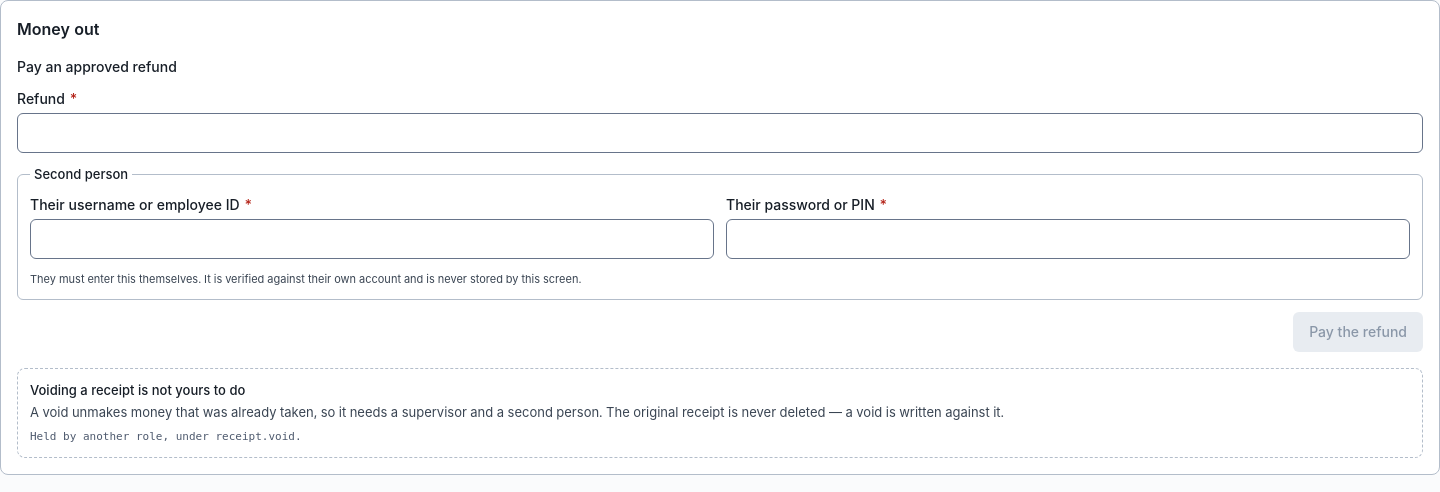
Test: money leaving the drawer › requires a second person even from somebody who holds the key
Type "0192f0e2-0000-7000-8000-0000000000d1" into the field with test id "refund-id" at {"x": 720, "y": 133}, box [17, 113, 1423, 153]
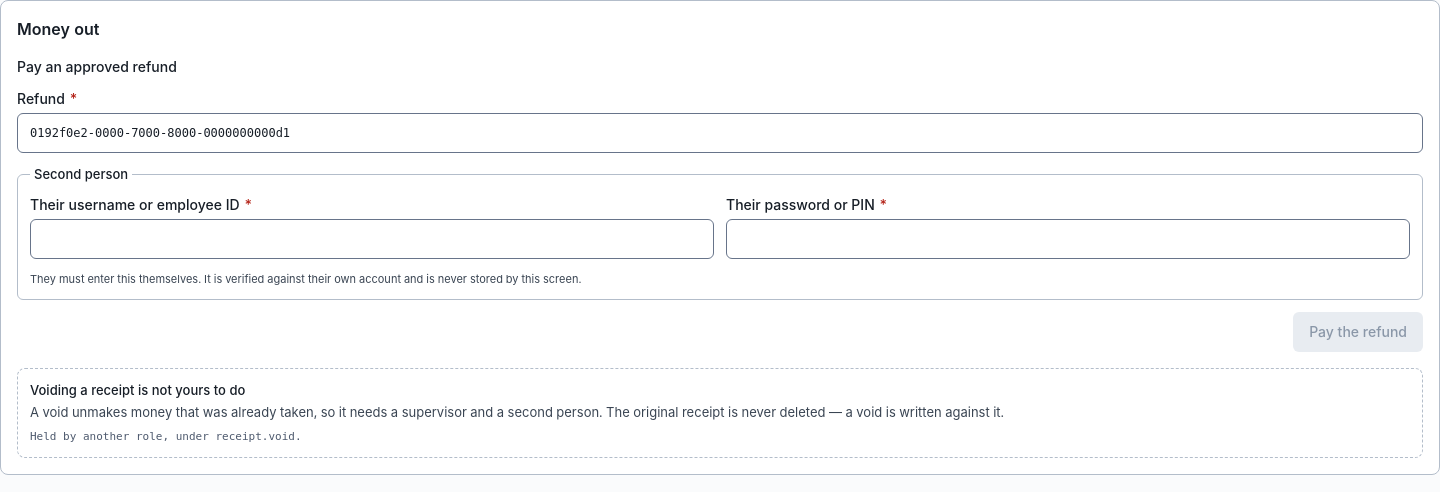
Check: the button with test id "refund-confirm" is disabled, box [1293, 312, 1423, 352]
Type "head.cashier" into the field with test id "refund-cosigner" at {"x": 372, "y": 239}, box [30, 219, 714, 259]
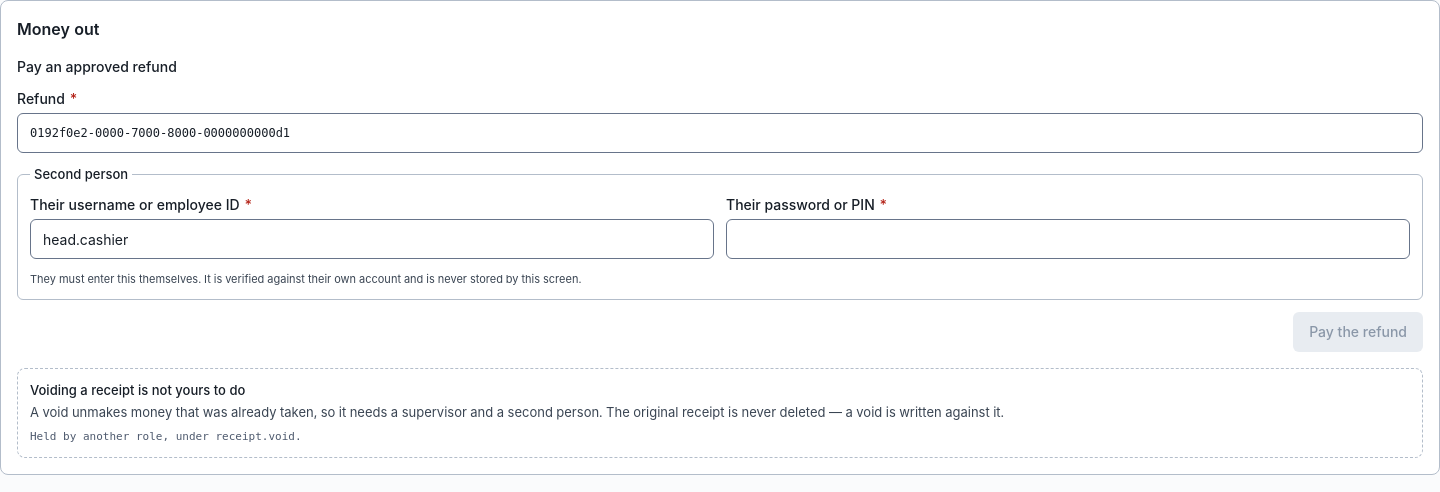
Type "their-password" into the password field with test id "refund-credential" at {"x": 1068, "y": 239}, box [726, 219, 1410, 259]
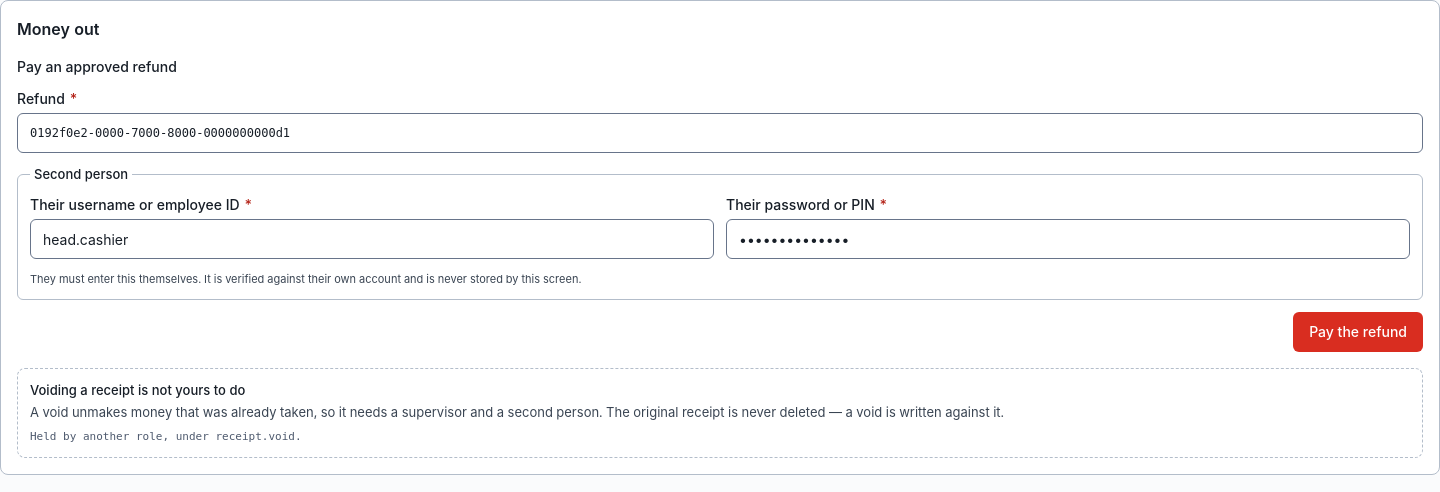
Check: the button with test id "refund-confirm" is enabled, box [1293, 312, 1423, 352]
